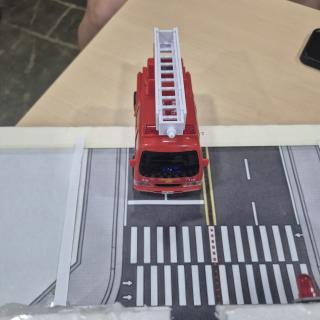Fire_truck: (130, 28, 209, 193)
